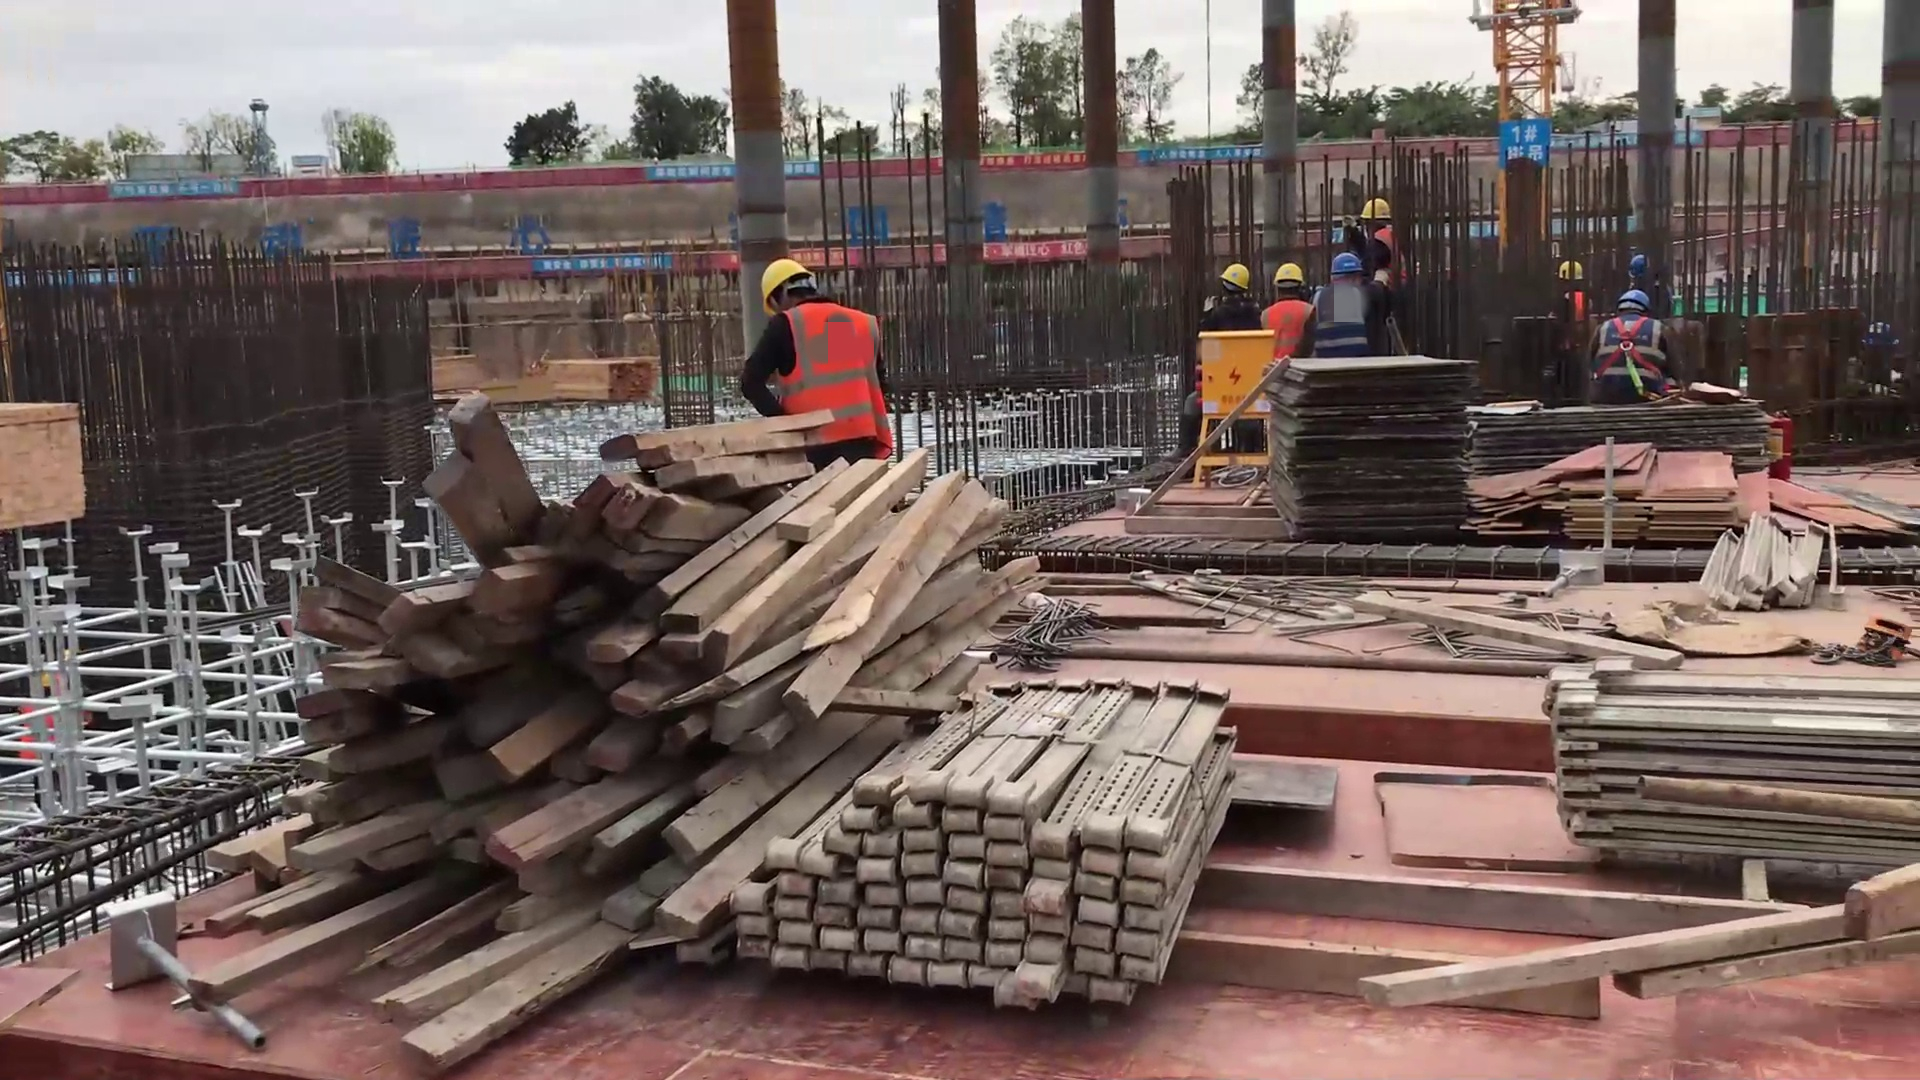board: (1254, 334, 1454, 536), (1474, 447, 1744, 551), (1474, 384, 1774, 467)
ebox: (1184, 331, 1266, 422)
helmet: (766, 254, 819, 312), (36, 657, 73, 696), (1328, 252, 1368, 284), (1274, 262, 1315, 290), (1854, 322, 1903, 344), (1225, 263, 1260, 291), (1617, 287, 1657, 311), (1367, 199, 1396, 231), (1555, 258, 1593, 281), (1625, 252, 1651, 278)
person: (750, 261, 908, 475), (7, 633, 85, 792), (1589, 294, 1673, 402), (1318, 254, 1375, 357), (1356, 189, 1410, 291), (1840, 317, 1904, 393), (1261, 259, 1309, 356), (1553, 254, 1594, 352), (1208, 259, 1254, 333), (1627, 252, 1661, 291)
vest: (779, 306, 899, 463), (1586, 314, 1668, 397), (1312, 272, 1367, 344), (17, 689, 68, 762), (1842, 357, 1904, 405), (1369, 232, 1411, 297), (1256, 301, 1308, 351), (1548, 286, 1588, 342), (1205, 298, 1255, 333)
wood: (376, 467, 986, 760), (1, 388, 134, 527), (476, 324, 659, 411)
